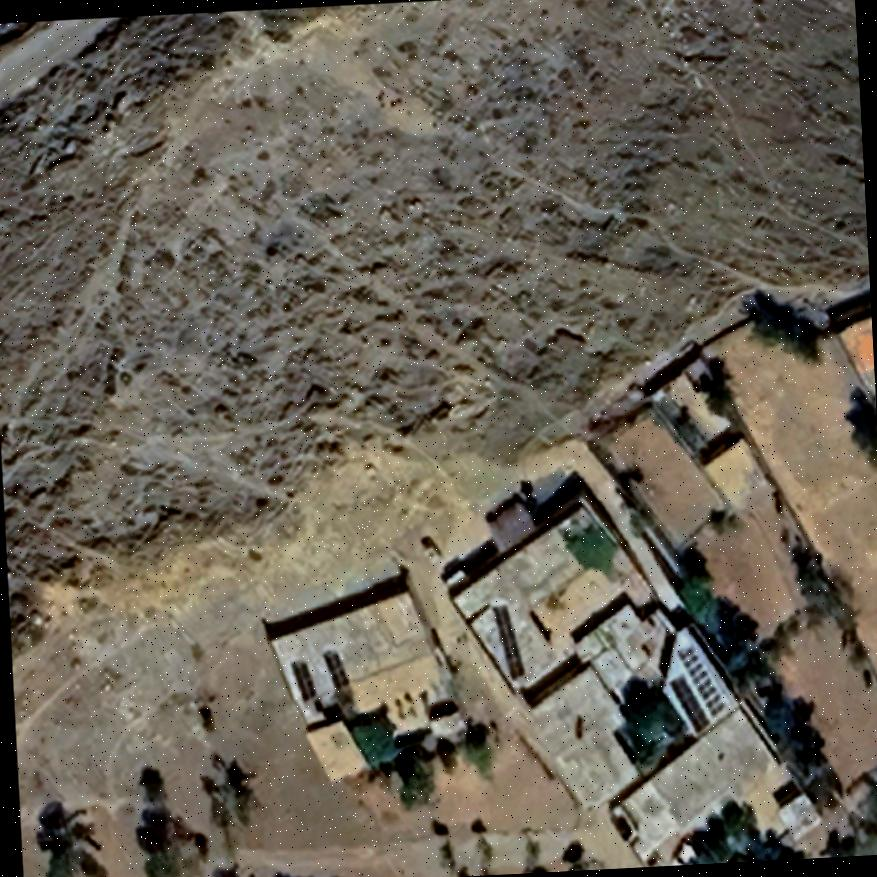Solarpanel: (675, 639, 727, 719), (488, 600, 528, 683), (663, 671, 713, 734), (285, 655, 318, 703), (321, 649, 350, 692)
